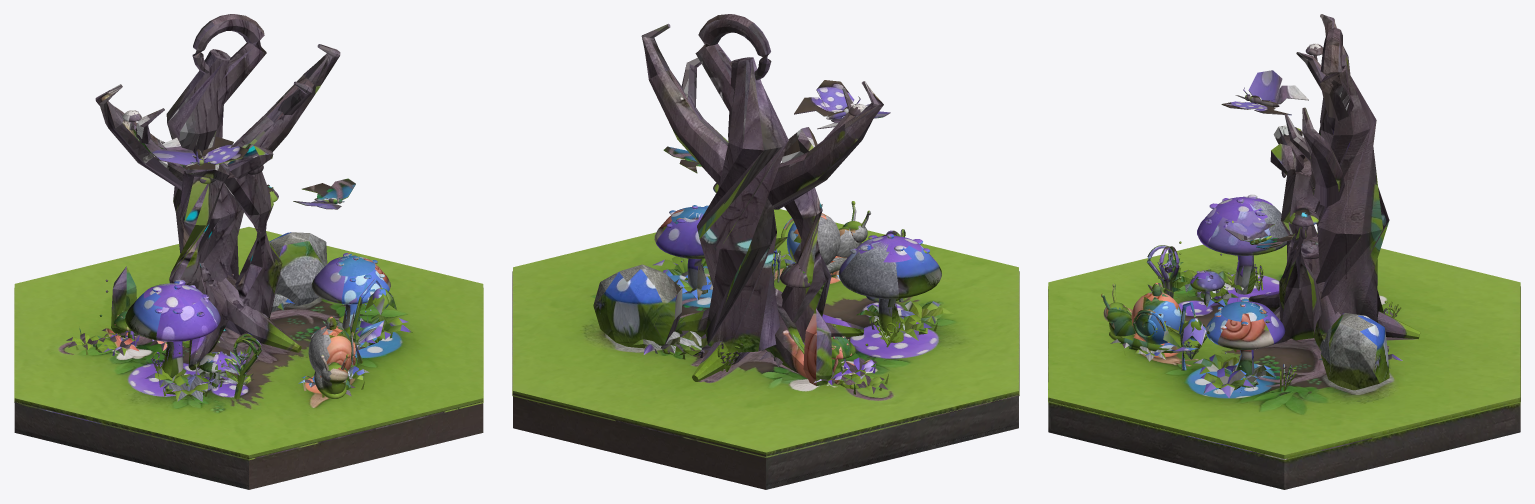
Rendered from hex_hollow_watchers.glb.
The picture shows the model from 3 angles, left to right: view 1: azimuth 30°, elevation 25°; view 2: azimuth 150°, elevation 25°; view 3: azimuth 270°, elevation 25°; orthographic projection. The views are drawn at different scales.
Parts seen in each view (by area): view 1: Standard hex meadow top.001, Standard hex stone foundation.001, Hollow watcher rear trunk.001, Hollow watcher cheek timber.003, Broad faceted mushroom cap.007, Standard hex earth layer.001, Hollow watcher cheek timber.002, Angular mossy forest boulder.001, Watcher spiral crown.001, Crooked reaching bough.003, Broad faceted mushroom cap.009, Crooked reaching bough.002 (+10 smaller); view 2: Standard hex meadow top.001, Hollow watcher rear trunk.001, Standard hex stone foundation.001, Angular mossy forest boulder.001, Broad faceted mushroom cap.007, Standard hex earth layer.001, Crooked reaching bough.003, Crooked reaching bough.002, Hollow watcher cheek timber.002, Watcher spiral crown.001, Broad faceted mushroom cap.009, Faceted magical crystal.002 (+9 smaller); view 3: Standard hex meadow top.001, Hollow watcher rear trunk.001, Standard hex stone foundation.001, Hollow watcher cheek timber.003, Angular mossy forest boulder.001, Standard hex earth layer.001, Broad faceted mushroom cap.007, Broad faceted mushroom cap.009, Crooked reaching bough.003, Watcher spiral crown.001, Coral lantern shell.001, Raised wooden brow.003 (+8 smaller).
Part boxes in pixels (bbox=[...]): Standard hex meadow top.001: bbox=[14, 227, 483, 458]; Standard hex stone foundation.001: bbox=[14, 411, 483, 489]; Hollow watcher rear trunk.001: bbox=[166, 49, 243, 281]; Hollow watcher cheek timber.003: bbox=[223, 171, 282, 318]; Broad faceted mushroom cap.007: bbox=[125, 283, 220, 341]; Standard hex earth layer.001: bbox=[14, 403, 483, 467]; Hollow watcher cheek timber.002: bbox=[169, 171, 223, 307]; Angular mossy forest boulder.001: bbox=[269, 232, 327, 305]; Watcher spiral crown.001: bbox=[192, 14, 266, 107]; Crooked reaching bough.003: bbox=[224, 44, 340, 171]; Broad faceted mushroom cap.009: bbox=[311, 256, 390, 304]; Crooked reaching bough.002: bbox=[95, 84, 195, 190]; Standard hex meadow top.001: bbox=[513, 209, 1018, 456]; Hollow watcher rear trunk.001: bbox=[697, 57, 788, 352]; Standard hex stone foundation.001: bbox=[513, 404, 1018, 489]; Angular mossy forest boulder.001: bbox=[593, 264, 682, 348]; Broad faceted mushroom cap.007: bbox=[838, 236, 941, 298]; Standard hex earth layer.001: bbox=[513, 396, 1018, 465]; Crooked reaching bough.003: bbox=[641, 23, 728, 185]; Crooked reaching bough.002: bbox=[767, 81, 883, 209]; Hollow watcher cheek timber.002: bbox=[780, 162, 831, 342]; Watcher spiral crown.001: bbox=[695, 14, 771, 110]; Broad faceted mushroom cap.009: bbox=[654, 206, 707, 258]; Faceted magical crystal.002: bbox=[803, 308, 832, 385]; Standard hex meadow top.001: bbox=[1048, 232, 1520, 458]; Hollow watcher rear trunk.001: bbox=[1315, 61, 1389, 322]; Standard hex stone foundation.001: bbox=[1048, 410, 1520, 489]; Hollow watcher cheek timber.003: bbox=[1279, 172, 1322, 340]; Angular mossy forest boulder.001: bbox=[1320, 313, 1389, 390]; Standard hex earth layer.001: bbox=[1048, 402, 1520, 467]; Broad faceted mushroom cap.007: bbox=[1197, 196, 1288, 255]; Broad faceted mushroom cap.009: bbox=[1206, 301, 1285, 349]; Crooked reaching bough.003: bbox=[1302, 107, 1344, 206]; Watcher spiral crown.001: bbox=[1320, 27, 1353, 120]; Coral lantern shell.001: bbox=[1131, 292, 1181, 344]; Raised wooden brow.003: bbox=[1270, 143, 1303, 176].
Size of the model in its own units: 5.11 by 3.56 by 4.42.
Materials: 5 (5 with a texture image).
